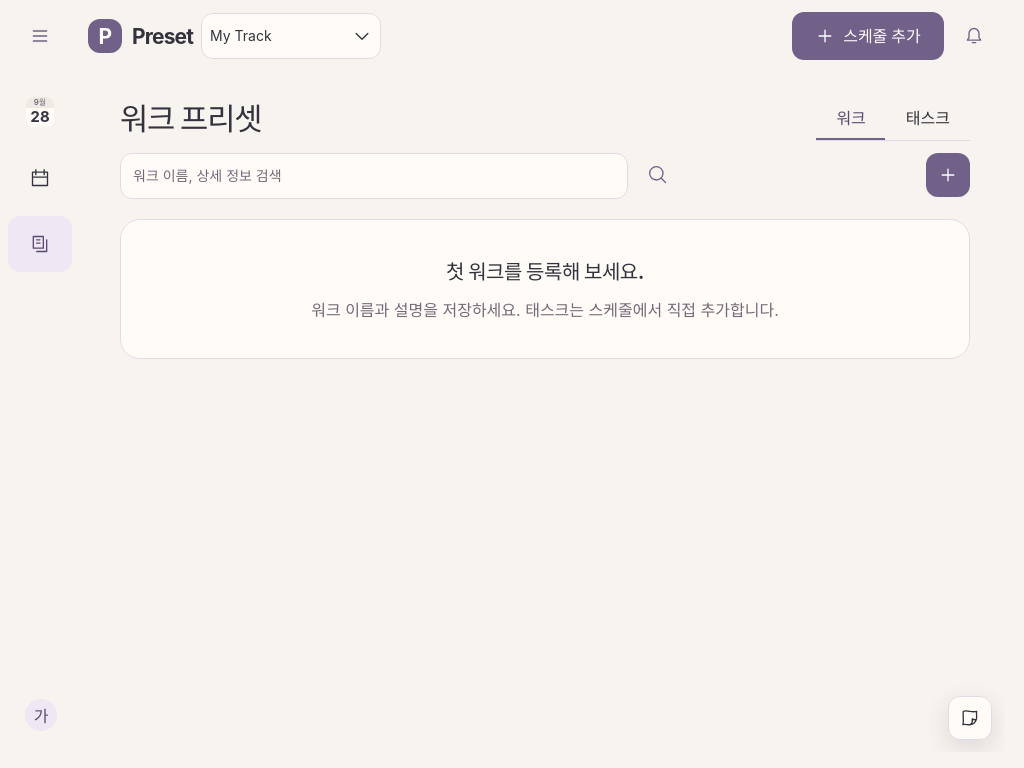
Test case: opens work registration after a full pointer click with the sidebar expanded
expect the heading "첫 워크를 등록해 보세요." is shown: met, box [446,260,644,284]
Click the button named "메뉴 펼치기": x=40, y=36 [18,14,62,58]
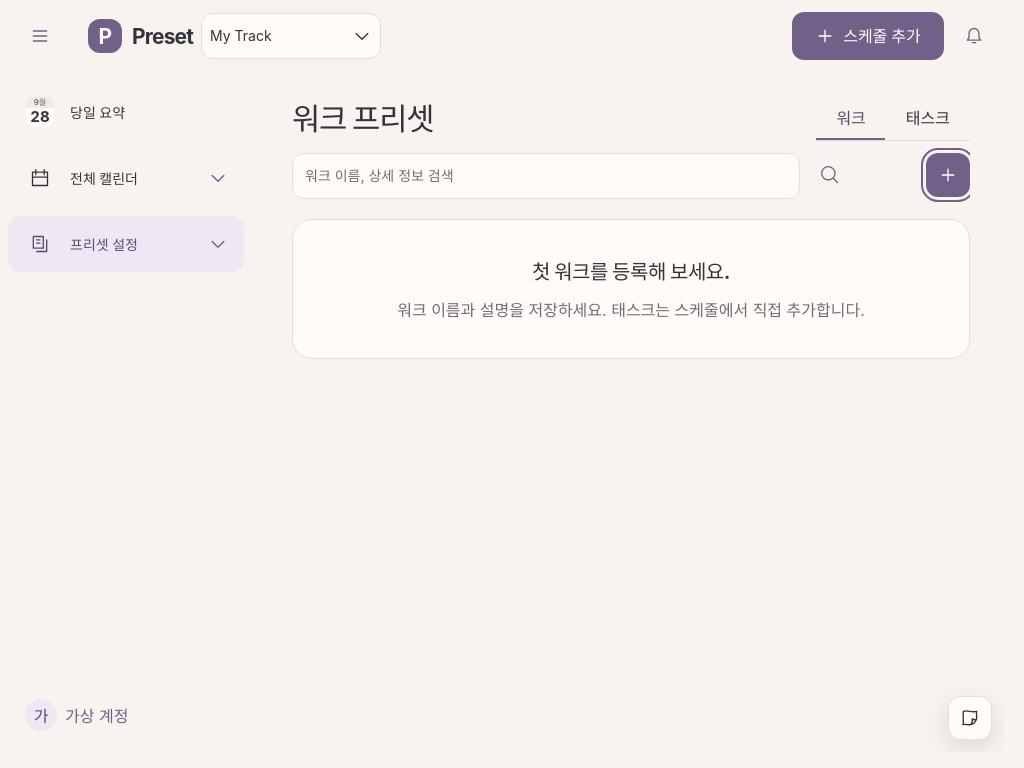
Press the mouse on the link named "+ 워크 등록": x=948, y=175 [926,153,970,197]
expect the button named "프리셋 종류 메뉴" is shown: met, box [196,222,240,266]
Click the link named "+ 워크 등록": x=948, y=175 [926,153,970,197]
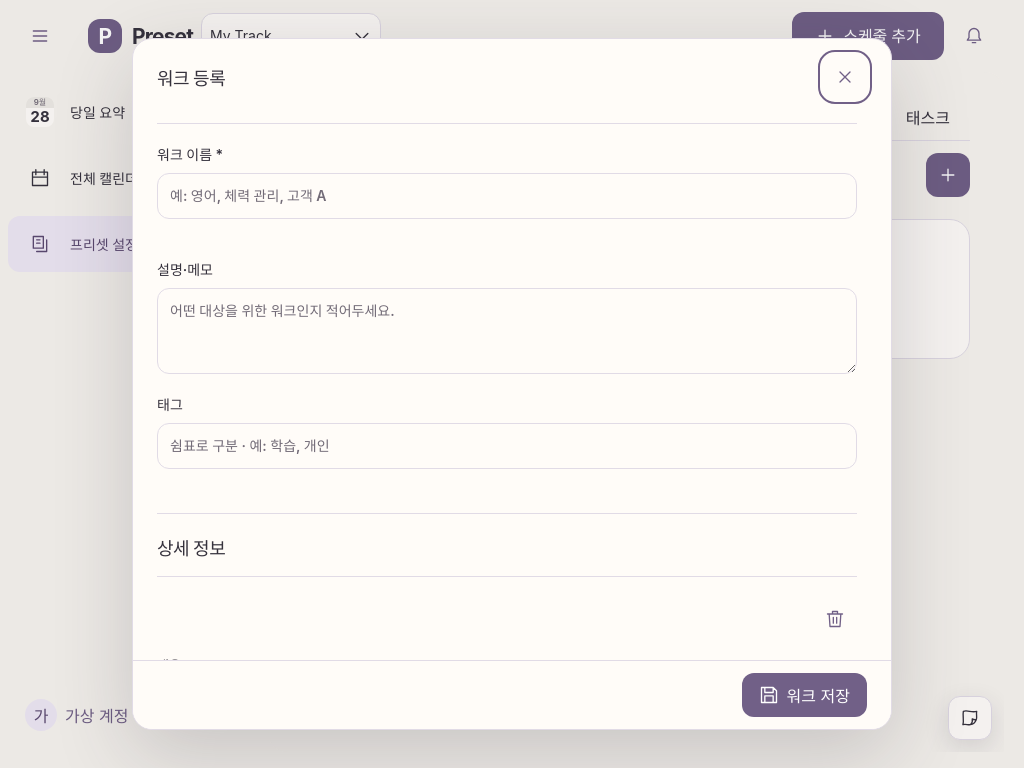
expect the button named "프리셋 종류 메뉴" is shown: met, box [196,222,240,266]
In the field labelled "워크 이름 *": x=507, y=196 [157,173,857,219], type "추가한 워크"
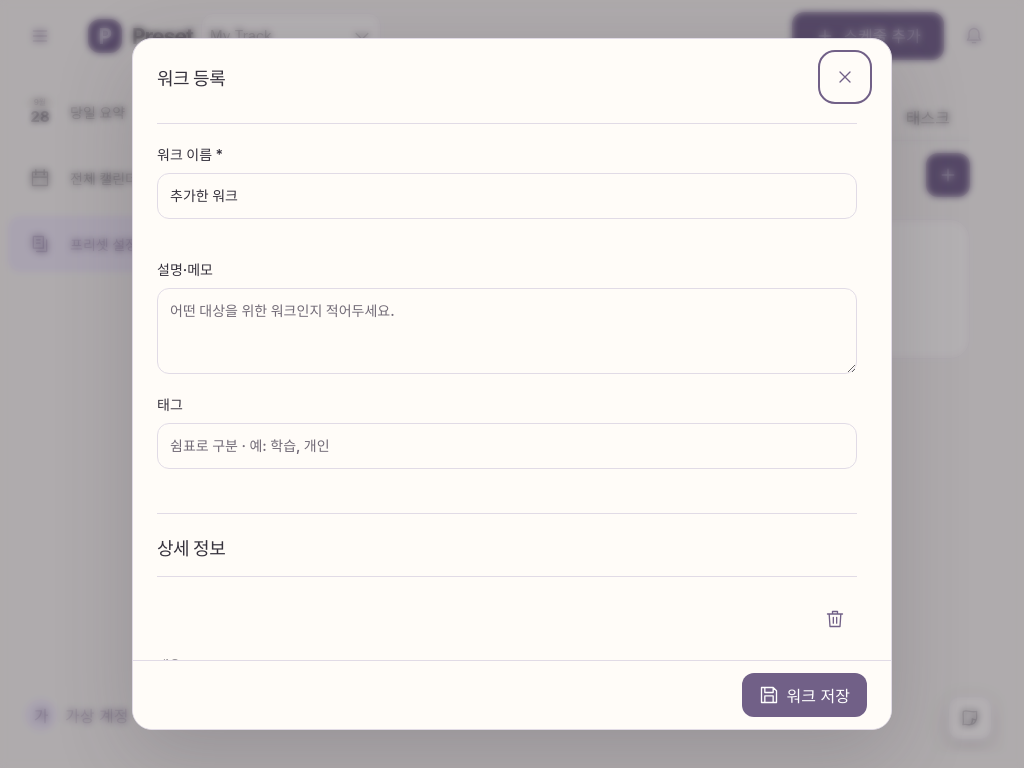
Click the button "워크 저장": x=804, y=695 [742,673,867,717]
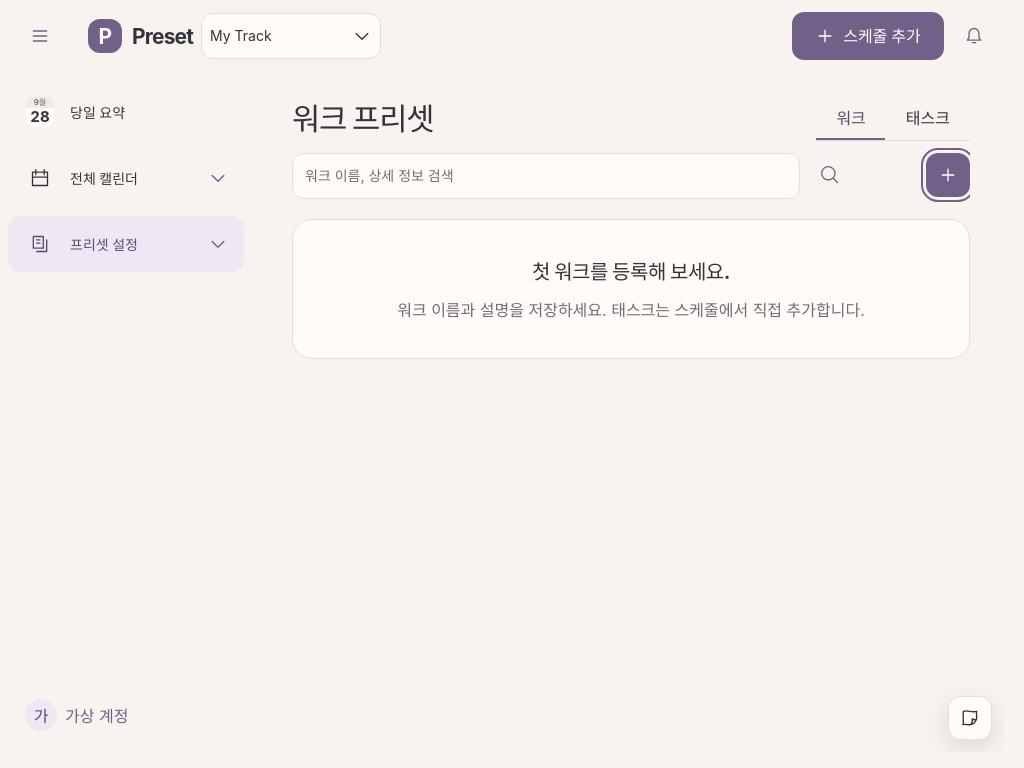
expect the dialog is gone: met
